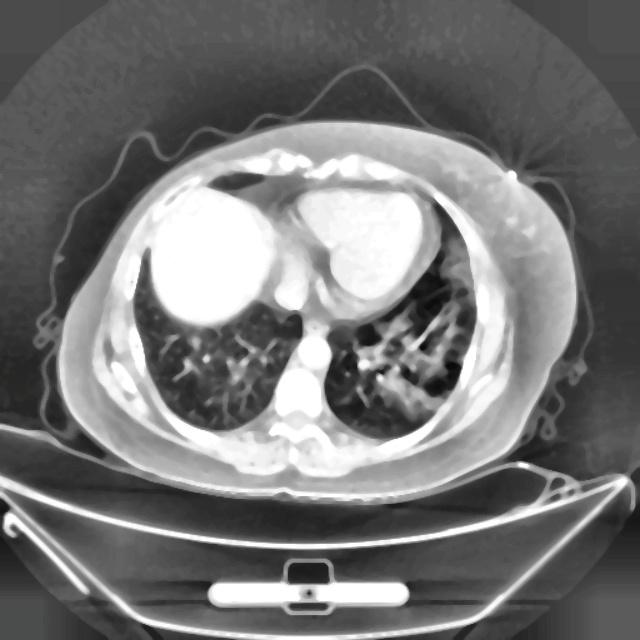covid: (52, 114, 580, 503)
